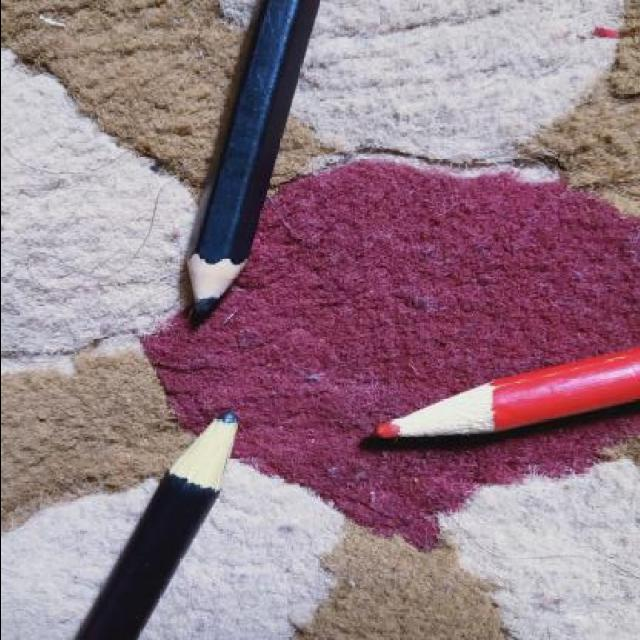Pencil: (362, 376, 524, 448), (162, 404, 256, 501), (176, 244, 253, 338)
